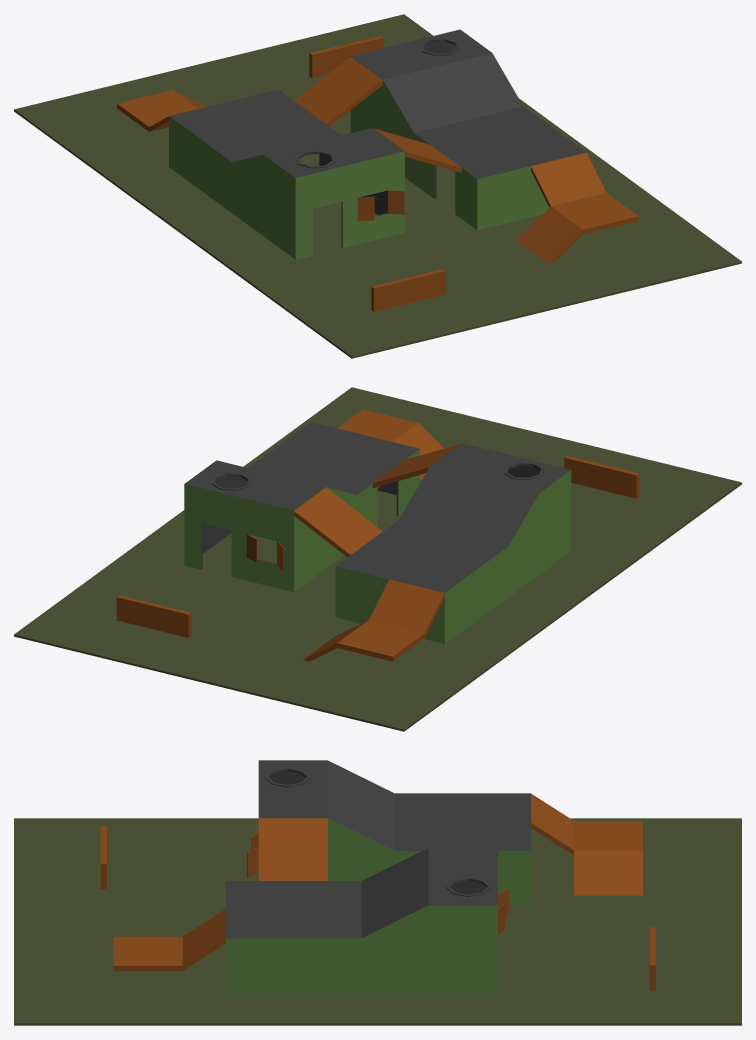
The model's file is double_building_edited.glb.
3 renders of one model, top to bottom at view 1: azimuth 30°, elevation 25°; view 2: azimuth 150°, elevation 25°; view 3: azimuth 270°, elevation 25°, orthographic. The views are drawn at different scales.
Visible parts, largest first — view 1: Cube, House1 -col, House2 -col; view 2: Cube, House2 -col, House1 -col; view 3: Cube, House1 -col, House2 -col.
Boxes of the visible parts, x1=… form: Cube: x1=14, y1=14, x2=741, y2=358; House1 -col: x1=309, y1=29, x2=638, y2=263; House2 -col: x1=117, y1=56, x2=446, y2=311; Cube: x1=14, y1=387, x2=741, y2=731; House2 -col: x1=294, y1=443, x2=639, y2=661; House1 -col: x1=116, y1=409, x2=460, y2=637; Cube: x1=14, y1=818, x2=741, y2=1025; House1 -col: x1=113, y1=818, x2=655, y2=993; House2 -col: x1=100, y1=760, x2=642, y2=905.
Size of the model in its own units: 40 by 8.59 by 60.
